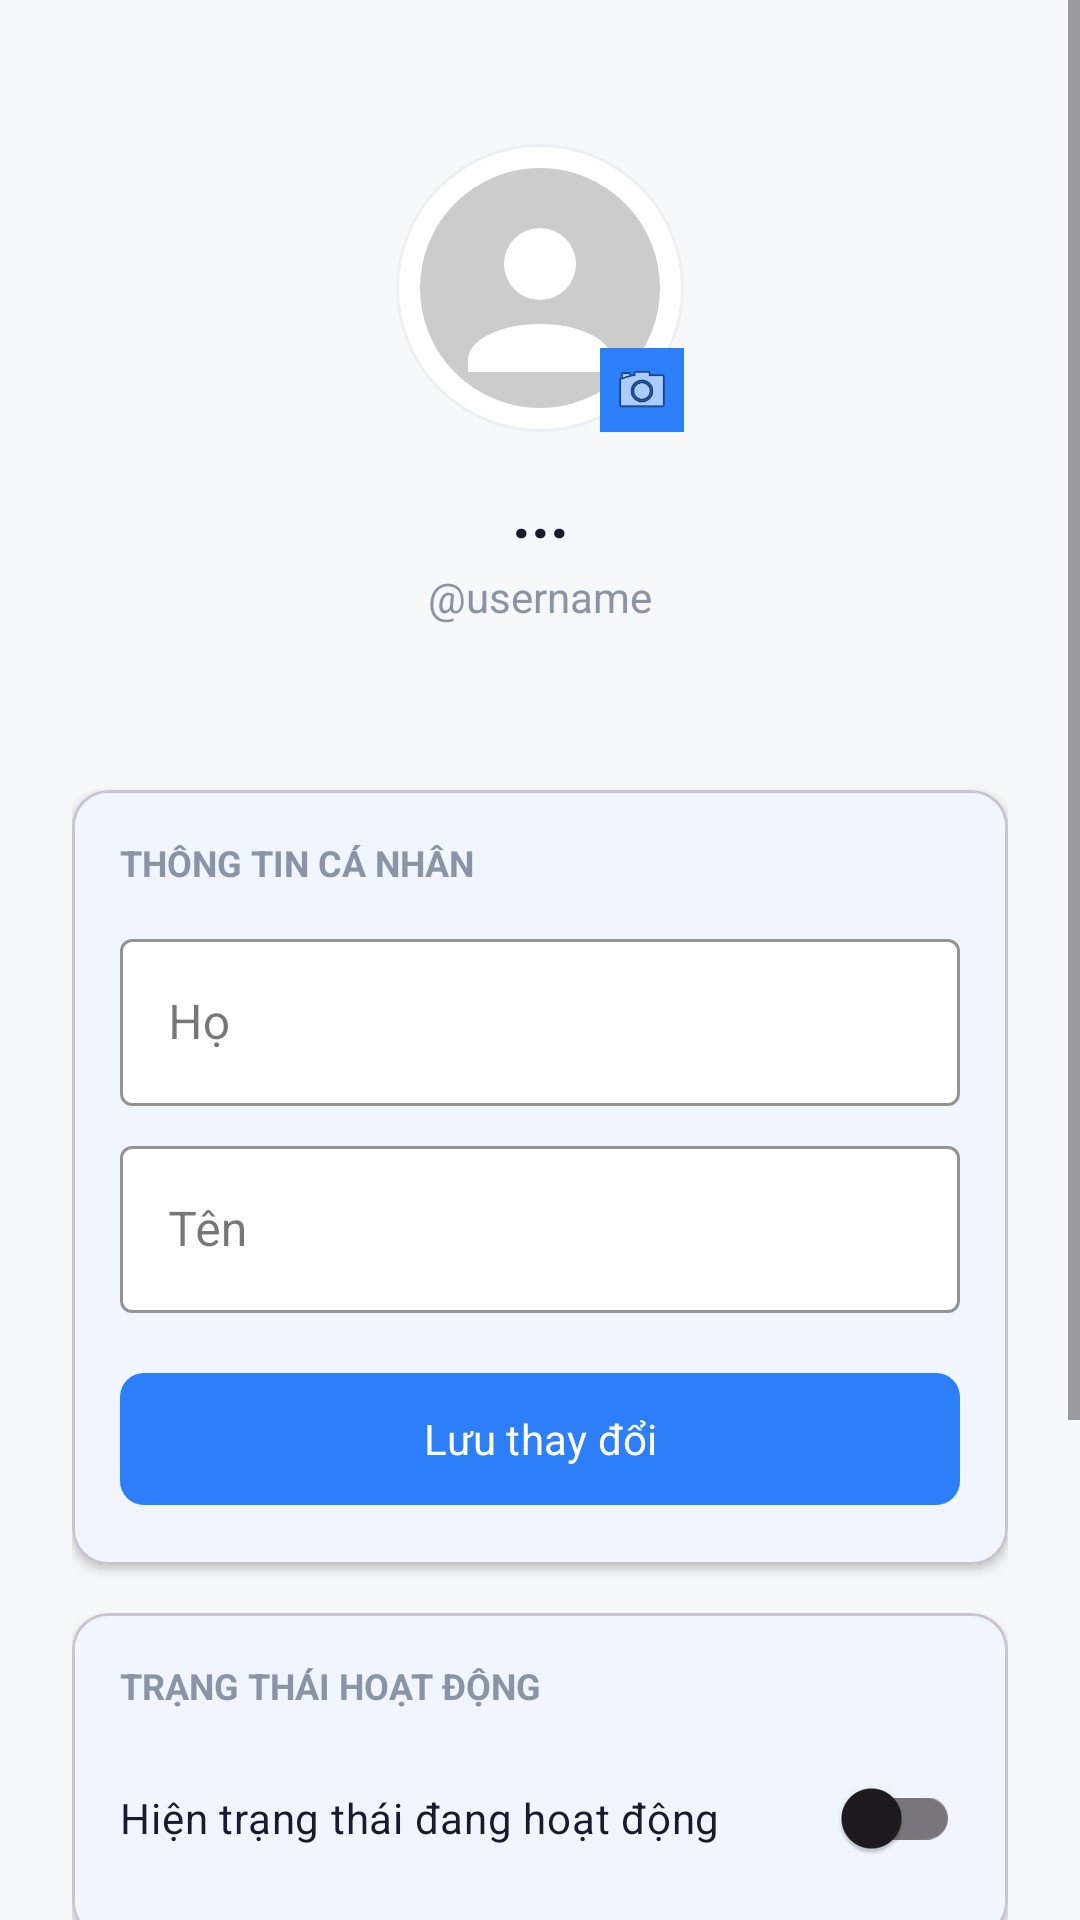

Screen size 1080x1920. Icon name, then its center in pixels as point (x, y):
camera: point (642, 390)
